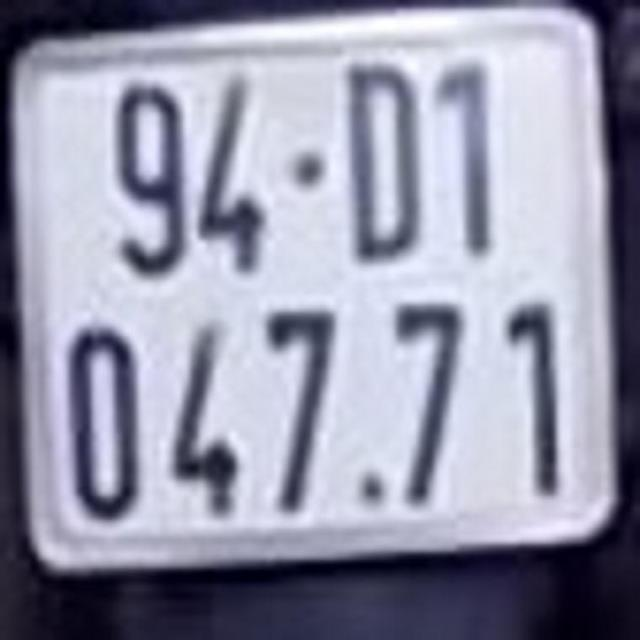0: (60, 314, 146, 520)
1: (430, 44, 507, 266), (497, 287, 575, 504)
4: (162, 316, 242, 527), (196, 63, 269, 280)
7: (390, 286, 469, 502), (262, 300, 336, 514)
9: (112, 70, 192, 276)
D: (343, 45, 427, 262)
